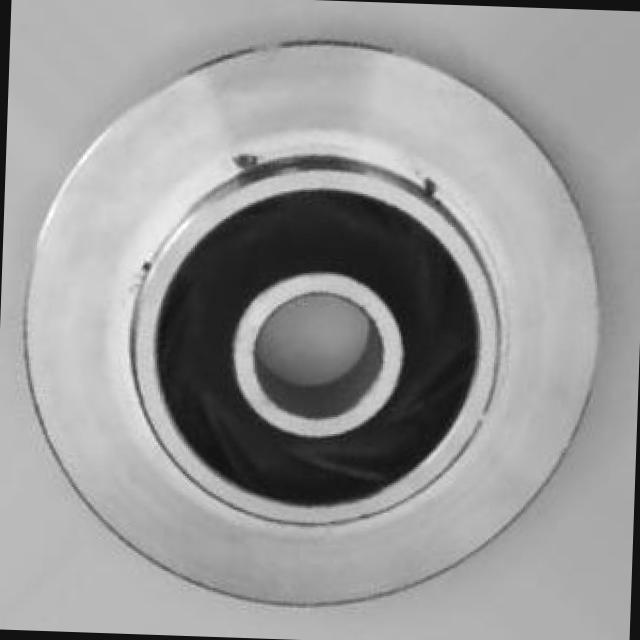Defect: (230, 148, 256, 170)
